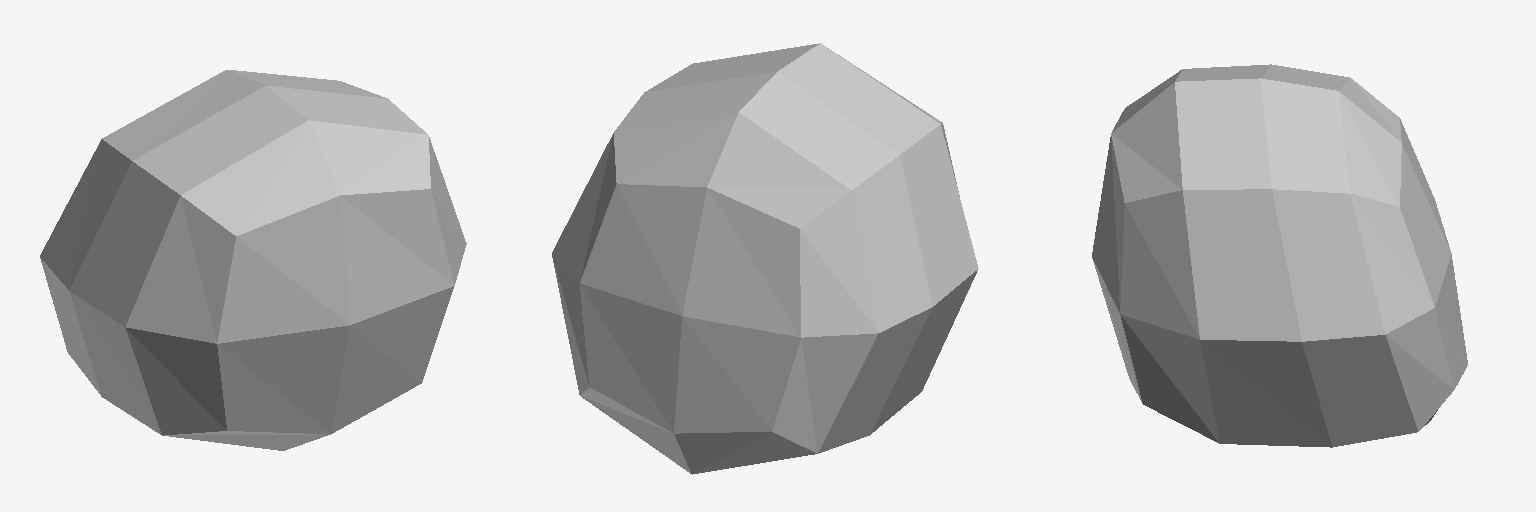
Rendered from rock2.obj.
3 renders of one model, left to right at view 1: azimuth 30°, elevation 25°; view 2: azimuth 150°, elevation 25°; view 3: azimuth 270°, elevation 25°, orthographic.
Visible parts, largest first — view 1: rock2; view 2: rock2; view 3: rock2.
Boxes of the visible parts, box(x1,y1,x2,y2) form: rock2: box(40, 70, 466, 450); rock2: box(552, 43, 978, 474); rock2: box(1092, 64, 1467, 447).
Bounding box in the file's own units: 0.6286 × 0.6066 × 0.5828.